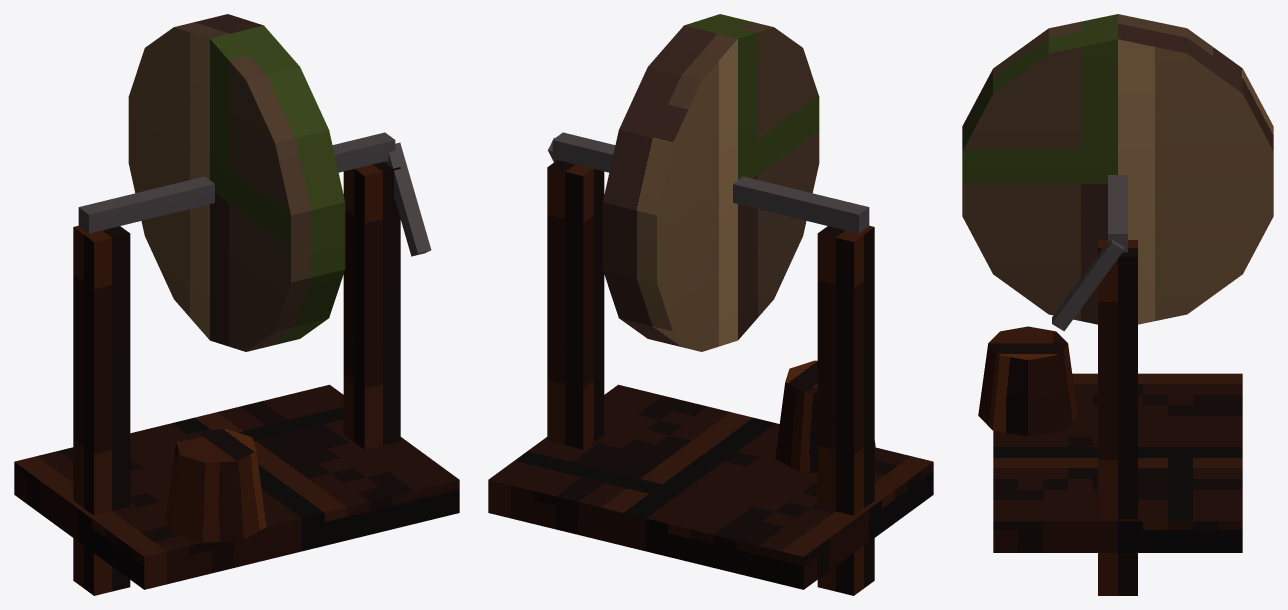
File: grindstone.glb
3 renders of one model, left to right at view 1: azimuth 30°, elevation 25°; view 2: azimuth 150°, elevation 25°; view 3: azimuth 270°, elevation 25°, orthographic. The views are drawn at different scales.
Parts seen in each view (by area): view 1: grindstone; view 2: grindstone; view 3: grindstone.
Boxes of the visible parts, x1,y1,x2,y2 form: grindstone: (14,14,459,595); grindstone: (488,14,933,595); grindstone: (962,14,1273,595).
Size of the model in its own units: 0.705 by 1.1 by 0.624.
Materials: 3 (2 with a texture image).
